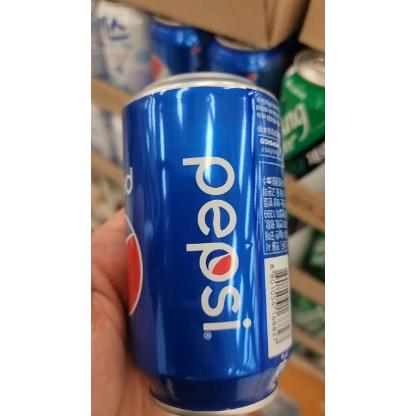Can: (117, 70, 294, 416)
